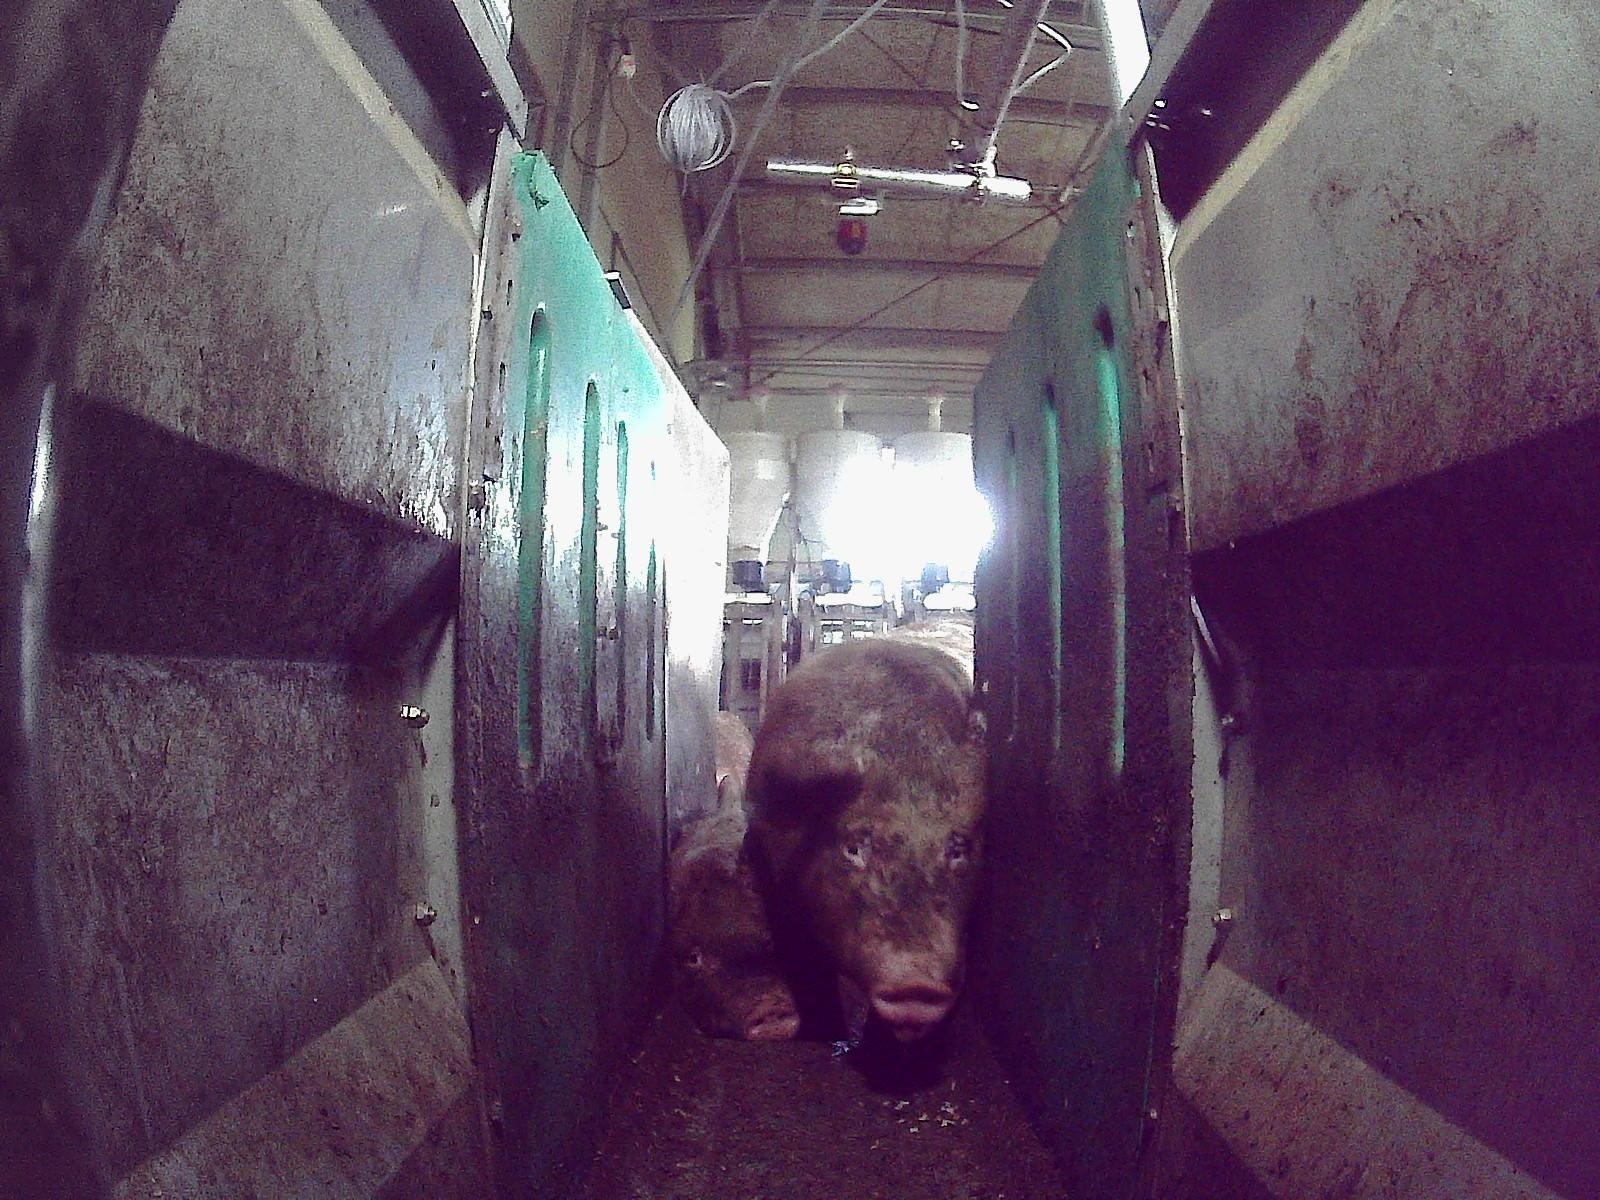Face: (811, 766, 981, 1029)
